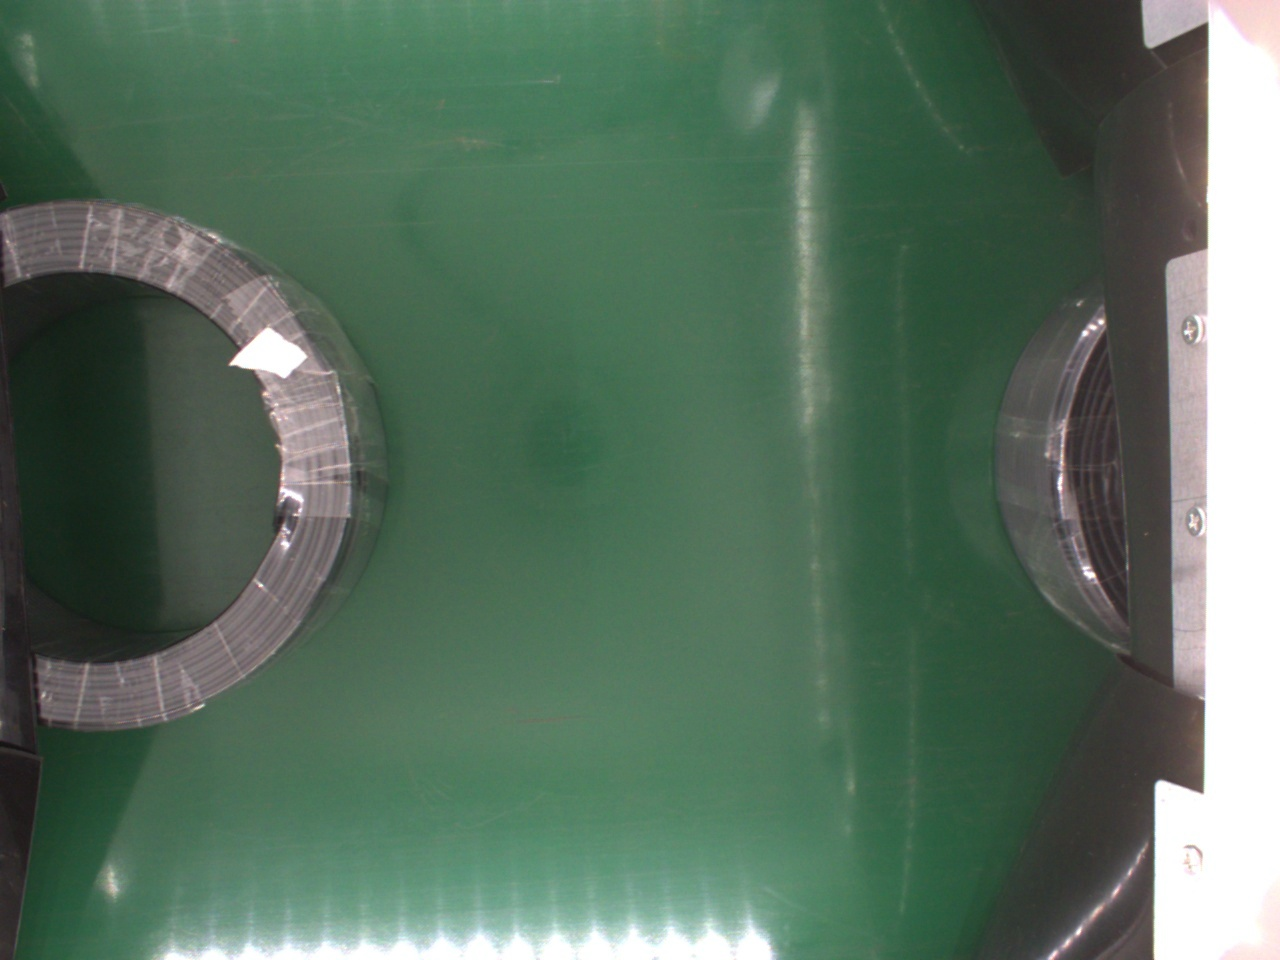black: (12, 200, 385, 738), (993, 293, 1138, 664)
